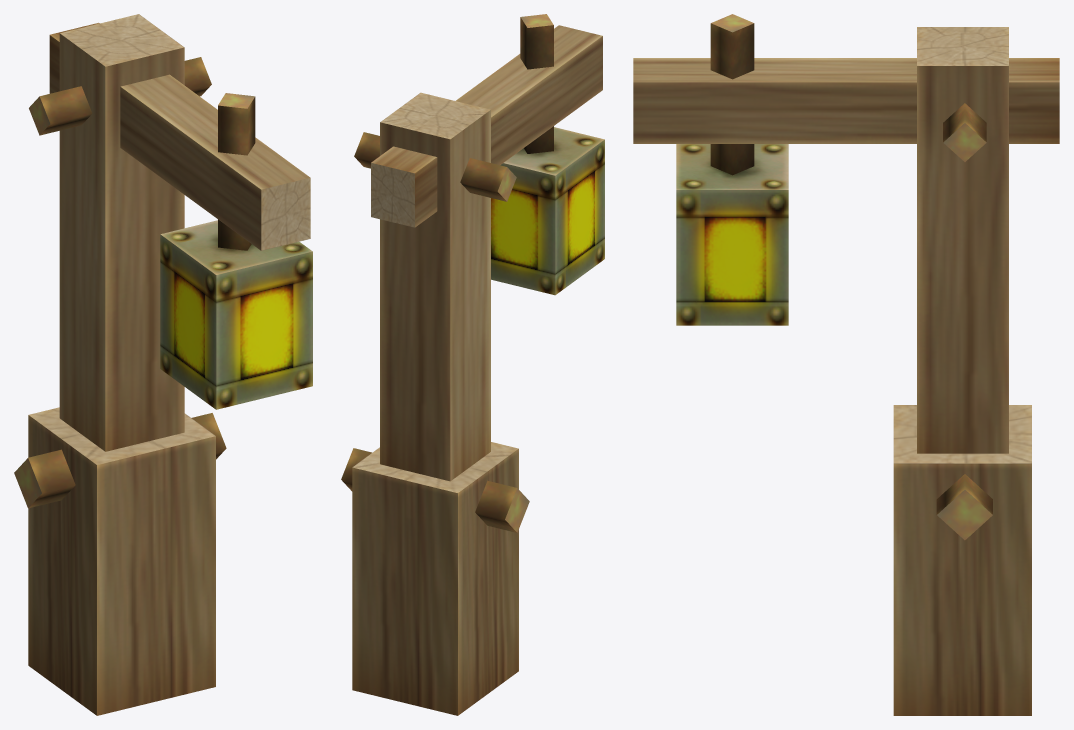
The model's file is StreetLight02.FBX.
3 views of the same model, side by side, from view 1: azimuth 30°, elevation 25°; view 2: azimuth 150°, elevation 25°; view 3: azimuth 270°, elevation 25° (orthographic). The views are drawn at different scales.
Parts seen in each view (by area): view 1: StreetLight02; view 2: StreetLight02; view 3: StreetLight02.
Boxes of the visible parts, x1,y1,x2,y2 form: StreetLight02: [14, 14, 312, 715]; StreetLight02: [341, 14, 604, 715]; StreetLight02: [633, 14, 1059, 715].
Bounding box in the file's own units: 63.12 × 215 × 125.
